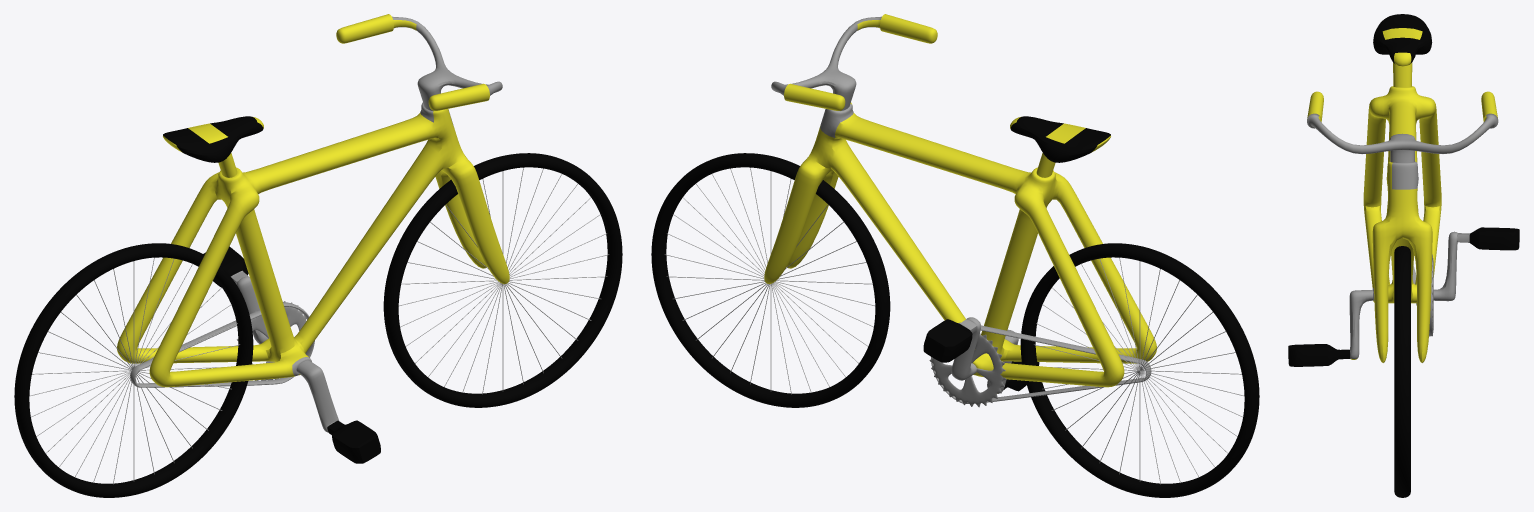
The model's file is bike.fbx.
3 views of the same model, side by side, from view 1: azimuth 30°, elevation 25°; view 2: azimuth 150°, elevation 25°; view 3: azimuth 270°, elevation 25° (orthographic). The views are drawn at different scales.
Parts seen in each view (by area): view 1: Bike, Circle, Circle.002; view 2: Bike, Circle.002, Circle; view 3: Bike.
Boxes of the visible parts, x1,y1,x2,y2 form: Bike: [14, 14, 622, 497]; Circle: [399, 167, 609, 394]; Circle.002: [30, 257, 239, 484]; Bike: [651, 14, 1259, 497]; Circle.002: [1034, 257, 1243, 484]; Circle: [664, 167, 874, 394]; Bike: [1288, 14, 1519, 497].
Size of the model in its own units: 1.97 by 0.7033 by 1.15.
